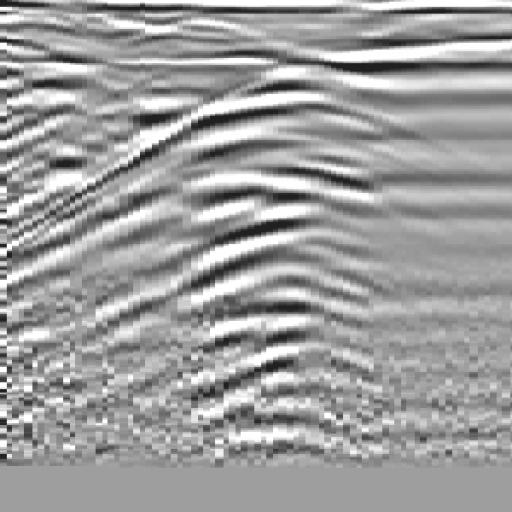metalic: (4, 42, 512, 376)
